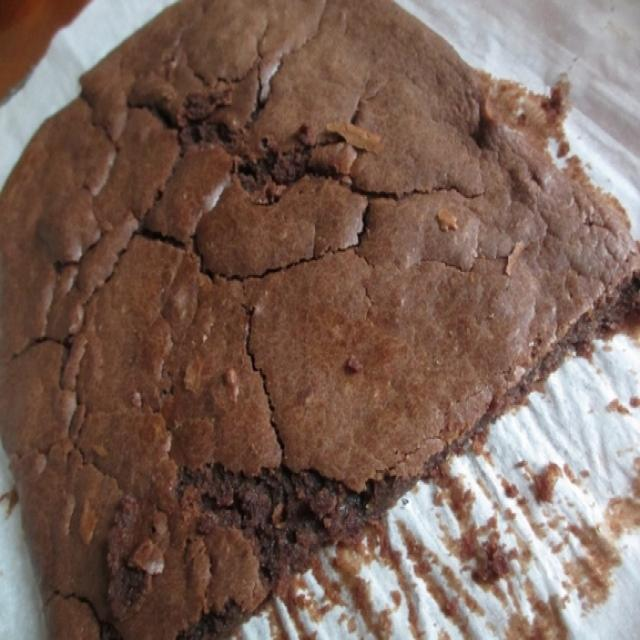蛋糕甜品: (10, 13, 613, 612)
